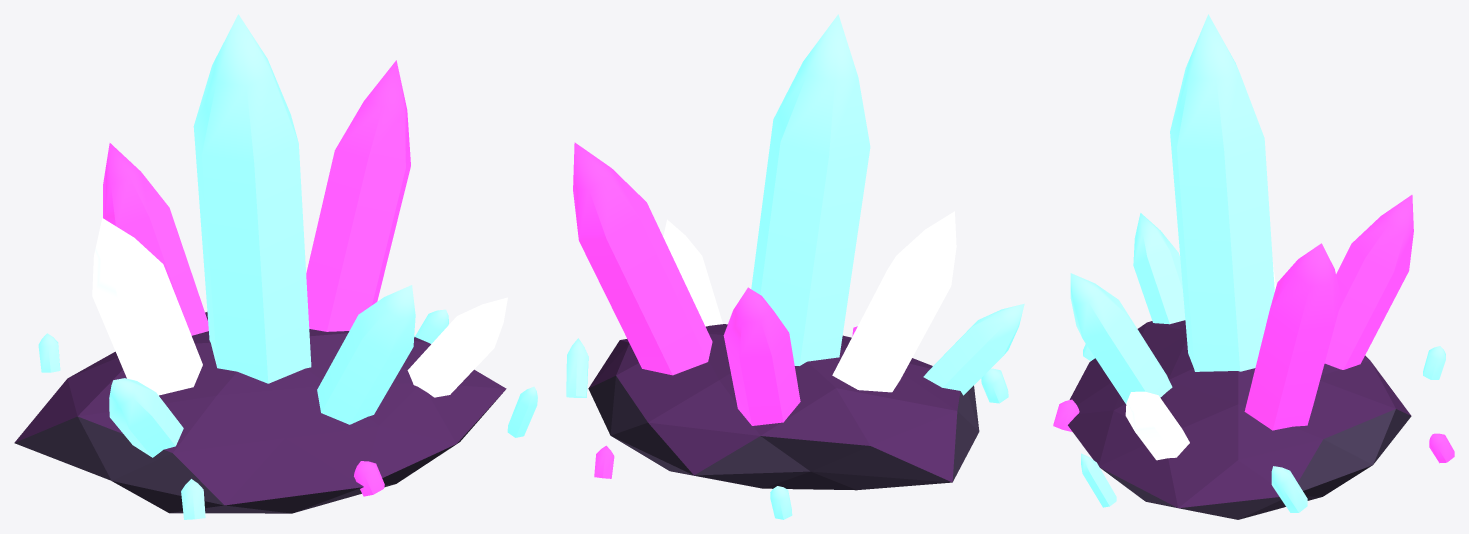
File: W4_GiantCrystal.fbx
3 renders of one model, left to right at view 1: azimuth 30°, elevation 25°; view 2: azimuth 150°, elevation 25°; view 3: azimuth 270°, elevation 25°, orthographic. The views are drawn at different scales.
Parts seen in each view (by area): view 1: W4_GiantCrystal; view 2: W4_GiantCrystal; view 3: W4_GiantCrystal.
Part boxes in pixels (bbox=[...]): W4_GiantCrystal: bbox=[14, 14, 537, 519]; W4_GiantCrystal: bbox=[566, 14, 1024, 519]; W4_GiantCrystal: bbox=[1053, 14, 1454, 519].
Size of the model in its own units: 14.53 by 14.68 by 13.14.
